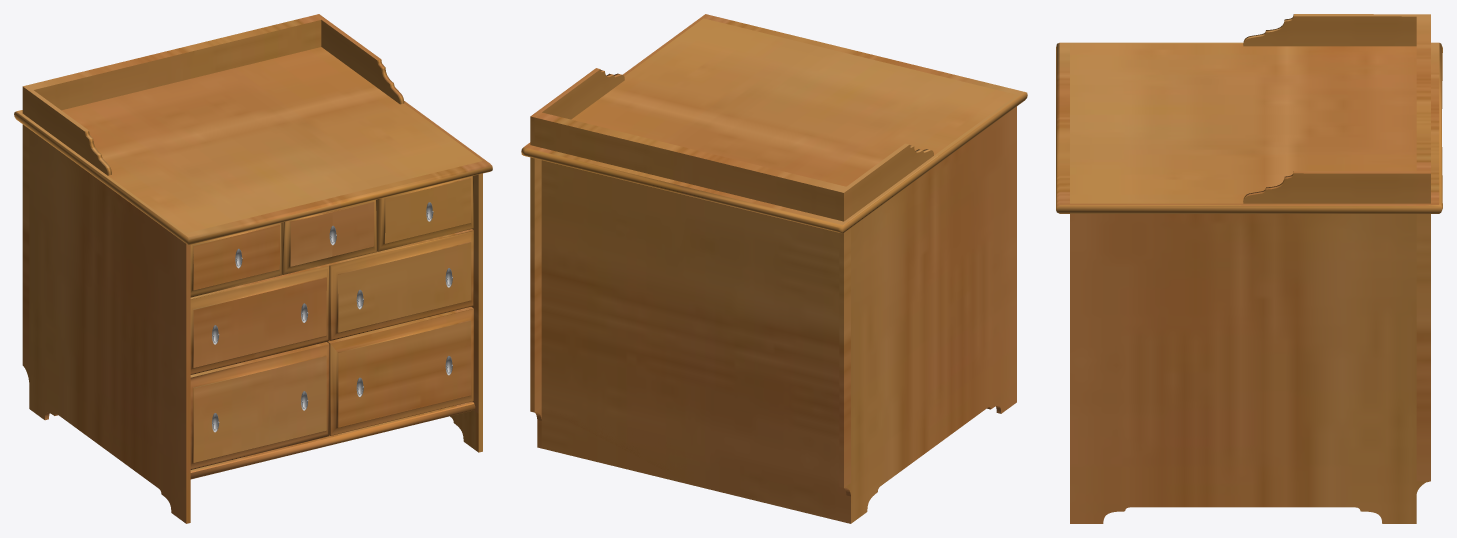
The model's file is sh-bsby-chest.glb.
3 renders of one model, left to right at view 1: azimuth 30°, elevation 25°; view 2: azimuth 150°, elevation 25°; view 3: azimuth 270°, elevation 25°, orthographic. The views are drawn at different scales.
Visible parts, largest first — view 1: Cube, Circle.010_Circle; view 2: Cube; view 3: Cube.
Boxes of the visible parts, x1,y1,x2,y2 form: Cube: (14, 14, 492, 523); Circle.010_Circle: (212, 202, 452, 432); Cube: (521, 14, 1027, 523); Cube: (1056, 14, 1442, 523).
Bounding box in the file's own units: 1 × 1 × 1.
Materials: 2 (1 with a texture image).
